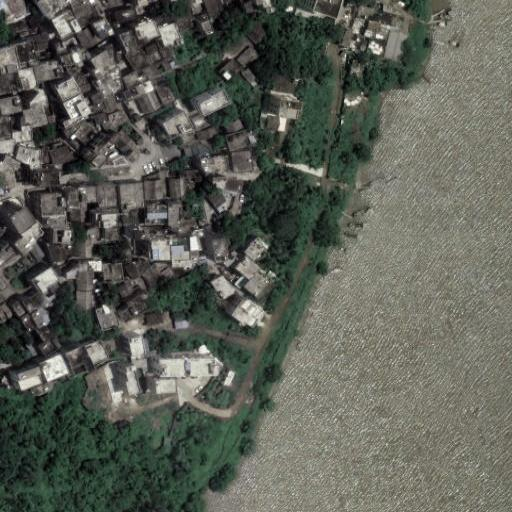building: (126, 86, 176, 119), (120, 31, 151, 74), (242, 271, 276, 305), (159, 358, 216, 377), (94, 65, 124, 101), (32, 267, 60, 304), (62, 93, 91, 127), (15, 223, 44, 254), (71, 0, 103, 28), (233, 299, 265, 327), (266, 66, 297, 94), (276, 100, 303, 132), (163, 113, 192, 142), (70, 119, 99, 146), (200, 91, 230, 117), (90, 49, 116, 79), (384, 30, 409, 61), (10, 207, 38, 234), (51, 11, 79, 38), (66, 345, 95, 371), (125, 288, 152, 315), (40, 355, 68, 381), (117, 276, 147, 299), (234, 254, 260, 280), (15, 40, 37, 70), (123, 80, 154, 101), (0, 0, 31, 21), (144, 169, 167, 197), (0, 243, 20, 275), (143, 58, 172, 80), (159, 22, 183, 47), (40, 193, 65, 217), (48, 143, 73, 167), (243, 236, 267, 261), (18, 367, 44, 390), (69, 67, 91, 93), (63, 47, 90, 68), (226, 130, 254, 150), (211, 275, 234, 299), (96, 304, 118, 329), (123, 364, 140, 396), (218, 59, 241, 82), (98, 184, 121, 207), (121, 184, 144, 207), (56, 79, 80, 101), (56, 36, 80, 58), (243, 21, 266, 43), (103, 109, 126, 131), (87, 340, 108, 364), (134, 20, 159, 40), (33, 64, 62, 81), (73, 27, 95, 49), (213, 238, 232, 263), (0, 95, 22, 116), (206, 188, 227, 209), (94, 17, 115, 38), (343, 57, 363, 79), (121, 207, 145, 225), (103, 262, 123, 283), (233, 151, 252, 173), (202, 0, 225, 18), (238, 45, 258, 65), (40, 337, 61, 356), (26, 106, 47, 125), (69, 259, 102, 271), (298, 0, 326, 14), (0, 169, 17, 192), (12, 299, 31, 319), (124, 260, 143, 279), (13, 145, 31, 165), (70, 201, 87, 222), (168, 204, 184, 226), (38, 170, 60, 186), (47, 244, 72, 258), (168, 179, 186, 198), (79, 185, 98, 203), (224, 179, 244, 196), (13, 125, 33, 142), (129, 336, 145, 357), (71, 241, 92, 257), (147, 204, 169, 219), (37, 325, 55, 343), (152, 241, 169, 260), (30, 291, 47, 310), (21, 313, 38, 332), (76, 272, 93, 291), (77, 291, 92, 312), (21, 68, 36, 89), (42, 216, 68, 228), (242, 69, 259, 87), (30, 92, 48, 109), (0, 73, 18, 90), (196, 127, 217, 141), (143, 269, 159, 287), (156, 380, 177, 393), (116, 305, 133, 321), (115, 137, 131, 154), (176, 17, 194, 32), (37, 308, 52, 326), (135, 240, 150, 258), (53, 229, 72, 243), (229, 195, 242, 215), (190, 251, 206, 267), (225, 118, 242, 133), (30, 34, 45, 51), (146, 313, 163, 328), (172, 252, 190, 266), (117, 9, 135, 23), (93, 153, 108, 169), (0, 118, 12, 138), (173, 311, 188, 327), (32, 311, 45, 329), (186, 144, 204, 157), (137, 260, 152, 275), (124, 73, 140, 87), (256, 0, 273, 13), (24, 297, 37, 314), (262, 94, 271, 118), (30, 150, 42, 168), (214, 157, 228, 172), (0, 154, 14, 169), (193, 115, 208, 129), (234, 275, 249, 289), (28, 245, 42, 260), (342, 28, 353, 46), (188, 0, 202, 14), (264, 270, 278, 284), (201, 20, 214, 35), (92, 112, 107, 125), (142, 227, 163, 236), (265, 115, 278, 129), (105, 214, 118, 228), (122, 133, 135, 147), (91, 92, 105, 105), (86, 227, 101, 239), (145, 42, 158, 55), (109, 132, 122, 145), (203, 159, 215, 173), (190, 236, 202, 250), (105, 228, 119, 240), (66, 190, 80, 202), (136, 0, 157, 8), (0, 303, 12, 317), (160, 47, 172, 60), (162, 267, 174, 280), (125, 151, 138, 163), (101, 141, 113, 154), (113, 156, 127, 166), (224, 372, 234, 386), (0, 139, 10, 152), (107, 0, 123, 8), (150, 51, 161, 62), (136, 137, 147, 148), (244, 2, 254, 14), (147, 219, 166, 225), (41, 146, 48, 162), (0, 306, 8, 320), (369, 22, 380, 32), (213, 176, 225, 185), (179, 170, 194, 177), (135, 359, 146, 368), (142, 339, 150, 351), (170, 246, 185, 252), (66, 270, 76, 279), (174, 267, 185, 275), (259, 117, 266, 129), (133, 230, 142, 239), (42, 31, 49, 42), (383, 4, 392, 12), (158, 262, 166, 269), (96, 213, 101, 224), (169, 61, 176, 68), (365, 30, 372, 37), (199, 219, 206, 225), (197, 176, 203, 182), (217, 206, 222, 212)
